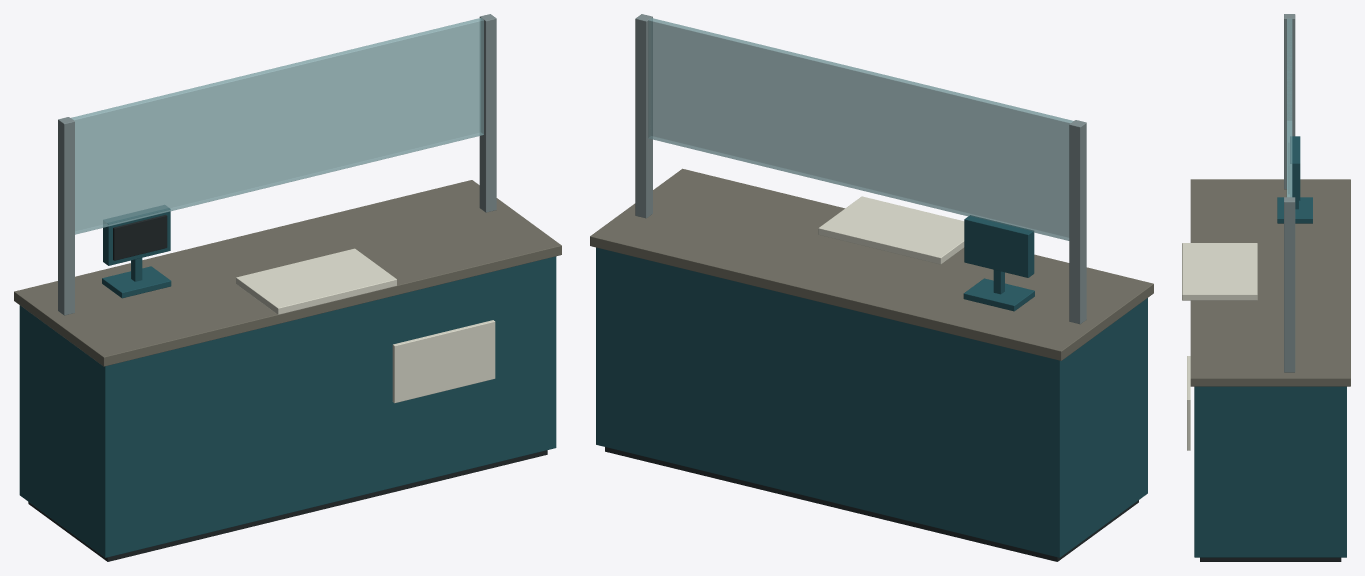
Rendered from police-station-reception.glb.
The picture shows the model from 3 angles, left to right: view 1: azimuth 30°, elevation 25°; view 2: azimuth 150°, elevation 25°; view 3: azimuth 270°, elevation 25°; orthographic projection. The views are drawn at different scales.
Parts seen in each view (by area): view 1: Counter_Body, Glazed_Partition, Worktop, Replaceable_Information_Panel, Document_Ledge, Partition_Post.001, Partition_Post, Counter_Base, Screen, Screen_Housing, Terminal_Foot; view 2: Counter_Body, Glazed_Partition, Worktop, Document_Ledge, Partition_Post, Partition_Post.001, Screen_Housing, Counter_Base, Terminal_Foot; view 3: Worktop, Counter_Body, Document_Ledge, Partition_Post.001, Partition_Post, Glazed_Partition, Counter_Base, Screen_Housing, Terminal_Foot, Replaceable_Information_Panel.
Boxes of the visible parts, x1,y1,x2,y2 form: Counter_Body: (19, 256, 556, 557); Glazed_Partition: (71, 18, 483, 234); Worktop: (14, 180, 561, 366); Replaceable_Information_Panel: (392, 320, 495, 403); Document_Ledge: (236, 248, 396, 314); Partition_Post.001: (479, 14, 496, 212); Partition_Post: (58, 117, 74, 315); Counter_Base: (28, 450, 547, 561); Screen: (113, 215, 167, 260); Screen_Housing: (103, 205, 170, 265); Terminal_Foot: (102, 266, 171, 298); Counter_Body: (596, 247, 1147, 557); Glazed_Partition: (648, 18, 1073, 240); Worktop: (590, 168, 1153, 360); Document_Ledge: (818, 196, 964, 264); Partition_Post: (1069, 120, 1086, 324); Partition_Post.001: (635, 14, 652, 218); Screen_Housing: (964, 215, 1034, 277); Counter_Base: (605, 447, 1138, 561); Terminal_Foot: (963, 278, 1034, 311); Worktop: (1190, 179, 1350, 386); Counter_Body: (1194, 386, 1346, 557); Document_Ledge: (1182, 243, 1257, 300); Partition_Post.001: (1284, 197, 1295, 372); Partition_Post: (1284, 14, 1295, 189); Glazed_Partition: (1286, 18, 1292, 197); Counter_Base: (1200, 557, 1341, 561); Screen_Housing: (1290, 136, 1300, 200); Terminal_Foot: (1277, 197, 1312, 223); Replaceable_Information_Panel: (1187, 356, 1190, 450).
Size of the model in its own units: 2.5 by 2.1 by 0.895.
